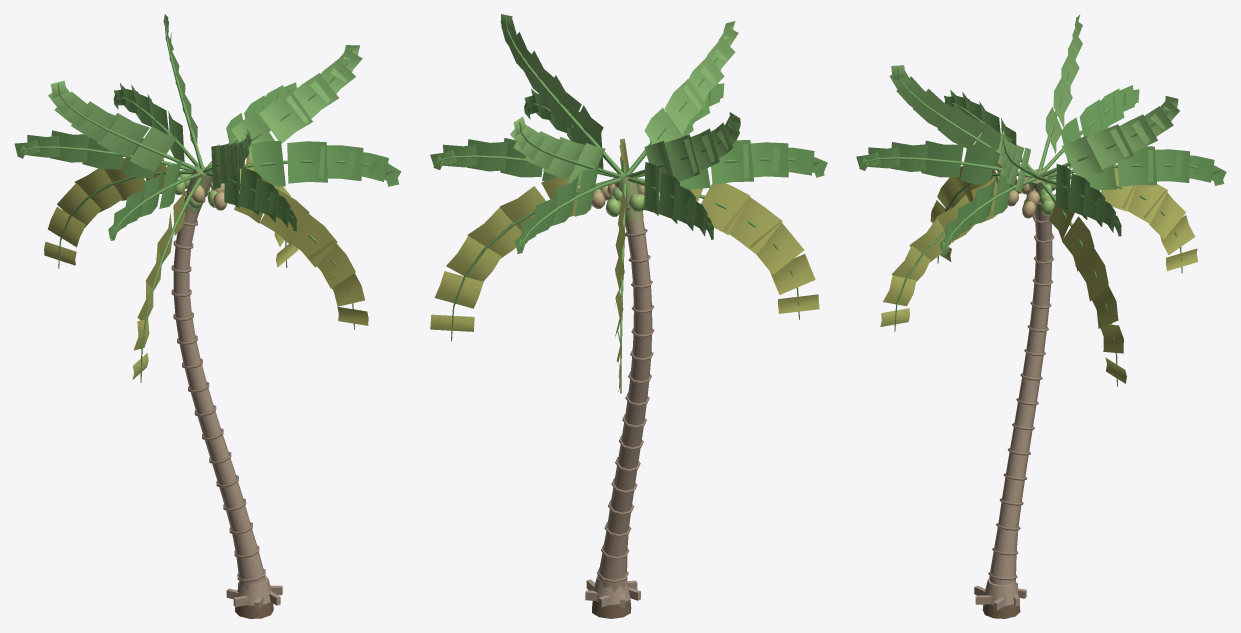
Rendered from south_indian_coconut_palm_tree.glb.
3 views of the same model, side by side, from view 1: azimuth 30°, elevation 25°; view 2: azimuth 150°, elevation 25°; view 3: azimuth 270°, elevation 25° (orthographic). The views are drawn at different scales.
Visible parts, largest first — view 1: Palm_Trunk_Curved_Shaft, Palm_Frond_8, Palm_Frond_13, Palm_Frond_1, Palm_Frond_3, Palm_Frond_11, Palm_Frond_5, Palm_Frond_9, Palm_Frond_14, Palm_Frond_10, Palm_Frond_6, Palm_Frond_4 (+4 smaller); view 2: Palm_Trunk_Curved_Shaft, Palm_Frond_14, Palm_Frond_12, Palm_Frond_10, Palm_Frond_4, Palm_Frond_3, Palm_Frond_1, Palm_Frond_2, Palm_Frond_7, Palm_Frond_5, Palm_Frond_6, Palm_Frond_11 (+2 smaller); view 3: Palm_Trunk_Curved_Shaft, Palm_Frond_2, Palm_Frond_12, Palm_Frond_9, Palm_Frond_6, Palm_Frond_11, Palm_Frond_13, Palm_Frond_4, Palm_Frond_7, Palm_Frond_5, Palm_Frond_8, Palm_Frond_1 (+4 smaller).
Part boxes in pixels (x1=…): Palm_Trunk_Curved_Shaft: x1=171, y1=166, x2=265, y2=590; Palm_Frond_8: x1=211, y1=141, x2=401, y2=186; Palm_Frond_13: x1=211, y1=177, x2=368, y2=329; Palm_Frond_1: x1=48, y1=80, x2=202, y2=171; Palm_Frond_3: x1=204, y1=45, x2=362, y2=169; Palm_Frond_11: x1=44, y1=157, x2=192, y2=268; Palm_Frond_5: x1=14, y1=130, x2=193, y2=178; Palm_Frond_9: x1=206, y1=167, x2=296, y2=230; Palm_Frond_14: x1=132, y1=178, x2=201, y2=382; Palm_Frond_10: x1=108, y1=159, x2=202, y2=240; Palm_Frond_6: x1=113, y1=83, x2=200, y2=168; Palm_Frond_4: x1=203, y1=127, x2=251, y2=189; Palm_Trunk_Curved_Shaft: x1=597, y1=173, x2=654, y2=592; Palm_Frond_14: x1=637, y1=178, x2=819, y2=319; Palm_Frond_12: x1=430, y1=173, x2=613, y2=341; Palm_Frond_10: x1=635, y1=140, x2=827, y2=189; Palm_Frond_4: x1=625, y1=21, x2=738, y2=175; Palm_Frond_3: x1=500, y1=14, x2=624, y2=175; Palm_Frond_1: x1=625, y1=112, x2=740, y2=188; Palm_Frond_2: x1=510, y1=116, x2=624, y2=186; Palm_Frond_7: x1=430, y1=138, x2=616, y2=181; Palm_Frond_5: x1=628, y1=162, x2=713, y2=239; Palm_Frond_6: x1=514, y1=164, x2=622, y2=253; Palm_Frond_11: x1=615, y1=183, x2=626, y2=393; Palm_Trunk_Curved_Shaft: x1=988, y1=169, x2=1054, y2=585; Palm_Frond_2: x1=1038, y1=96, x2=1179, y2=178; Palm_Frond_12: x1=1041, y1=182, x2=1126, y2=386; Palm_Frond_9: x1=856, y1=140, x2=1032, y2=184; Palm_Frond_6: x1=1047, y1=146, x2=1226, y2=190; Palm_Frond_11: x1=1048, y1=164, x2=1197, y2=273; Palm_Frond_13: x1=880, y1=177, x2=1029, y2=331; Palm_Frond_4: x1=889, y1=65, x2=1035, y2=173; Palm_Frond_7: x1=1038, y1=164, x2=1121, y2=236; Palm_Frond_5: x1=1042, y1=85, x2=1139, y2=170; Palm_Frond_8: x1=939, y1=173, x2=1037, y2=256; Palm_Frond_1: x1=1037, y1=14, x2=1082, y2=175.
Size of the model in its own units: 5.66 by 10.09 by 6.45.
